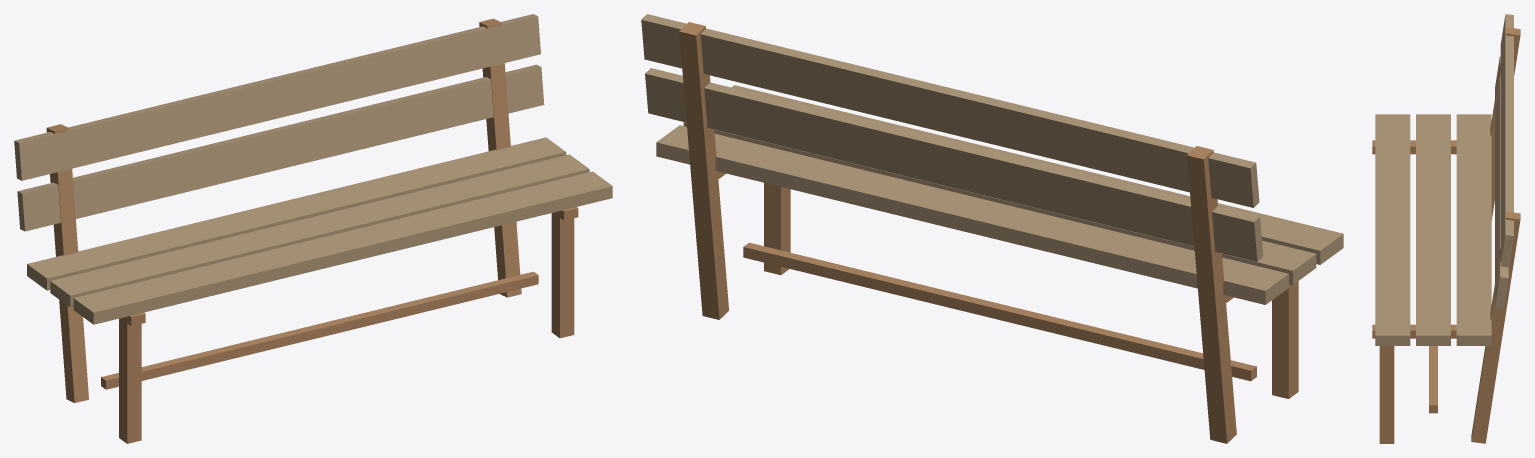
File: bench.glb
3 renders of one model, left to right at view 1: azimuth 30°, elevation 25°; view 2: azimuth 150°, elevation 25°; view 3: azimuth 270°, elevation 25°, orthographic. The views are drawn at different scales.
Visible parts, largest first — view 1: seat, frame; view 2: seat, frame; view 3: seat, frame.
Boxes of the visible parts, x1=… form: seat: x1=14, y1=14, x2=612, y2=324; frame: x1=46, y1=18, x2=578, y2=443; seat: x1=641, y1=14, x2=1343, y2=304; frame: x1=679, y1=22, x2=1298, y2=443; seat: x1=1375, y1=14, x2=1513, y2=345; frame: x1=1372, y1=27, x2=1520, y2=443.
Size of the model in its own units: 1.8 by 0.8593 by 0.5096.
